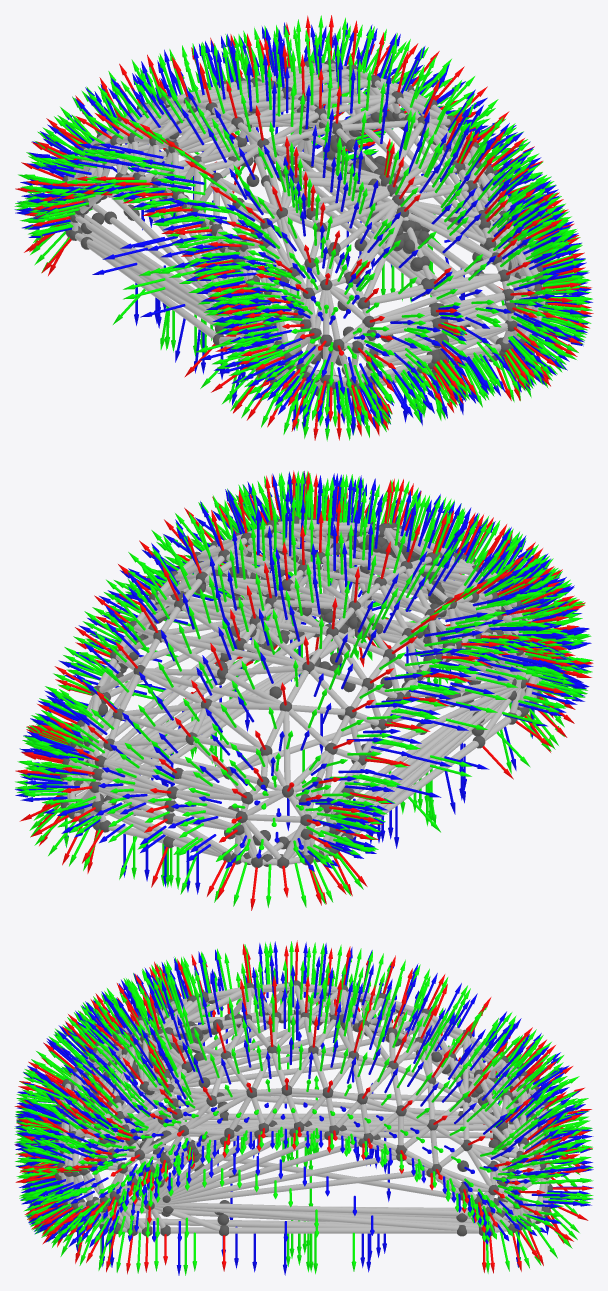
File: flowrep_mouse.gltf
3 views of the same model, one above another, from view 1: azimuth 30°, elevation 25°; view 2: azimuth 150°, elevation 25°; view 3: azimuth 270°, elevation 25° (orthographic). The views are drawn at different scales.
Size of the model in its own units: 0.6248 by 0.4554 by 0.9932.
